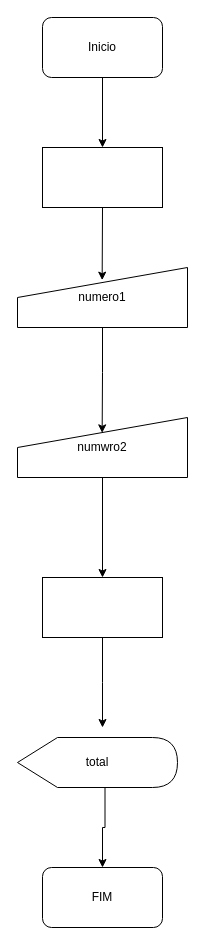
Some shapes in this 205 by 945 pixel diagram are drawn without their labels. Each missing label, with the centre of its shape:
"total = numero1 - numero2" belongs at (x=102, y=607).
"var numero1, numero2, total" belongs at (x=102, y=177).
